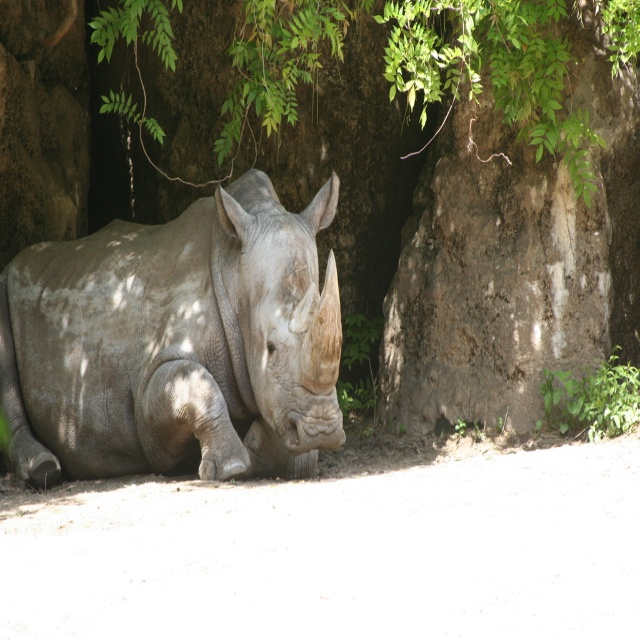Rhinoceros: (0, 154, 350, 480)
